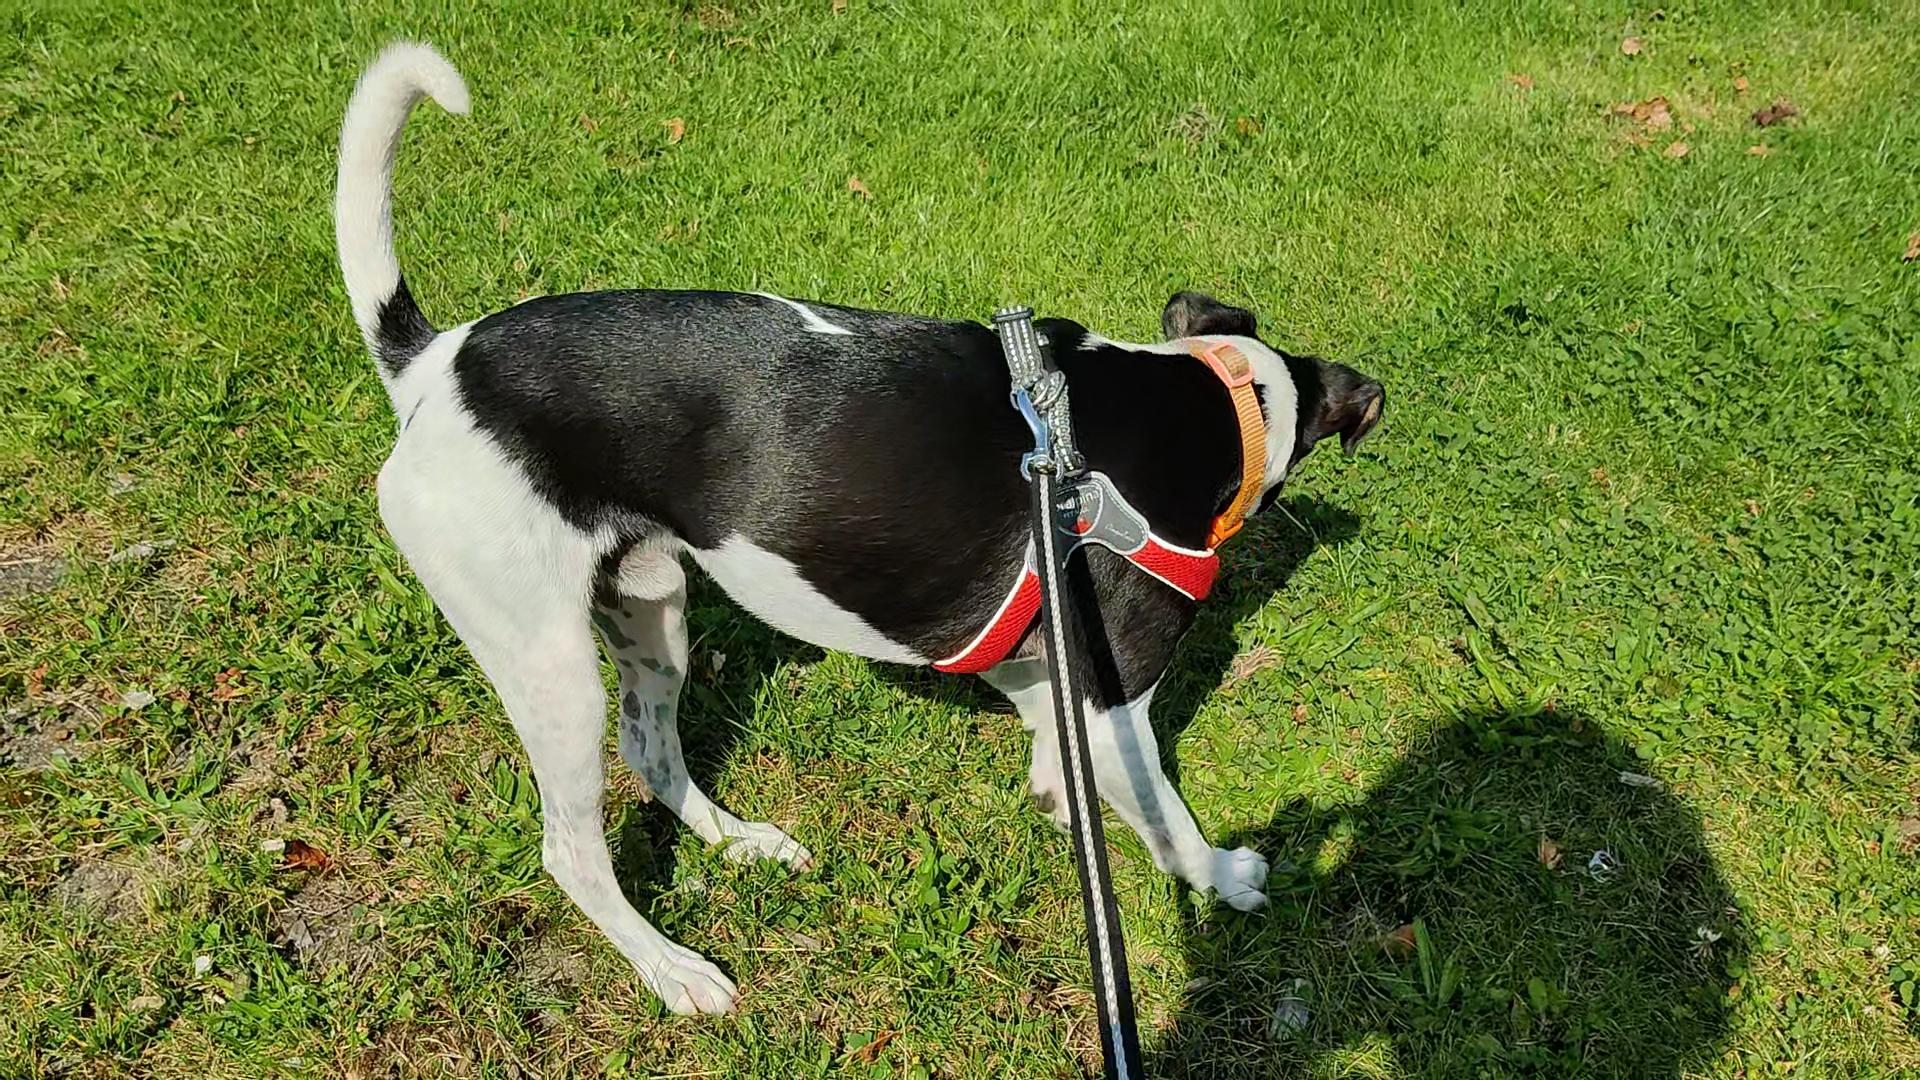Dog: (323, 36, 1394, 1026)
